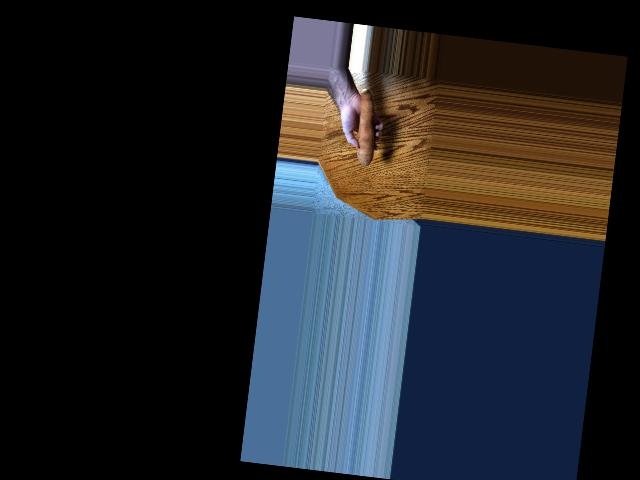sweet_potato: (353, 91, 386, 170)
